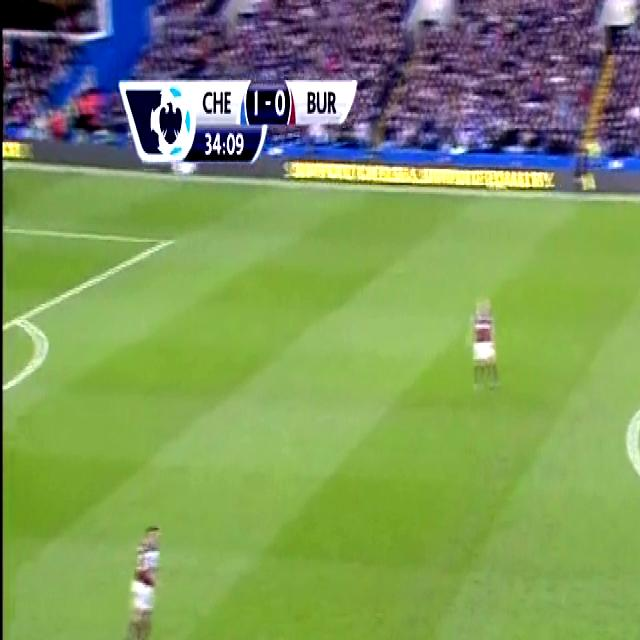referee: (570, 126, 599, 204)
soccer-player: (116, 501, 169, 640), (462, 280, 504, 400)
